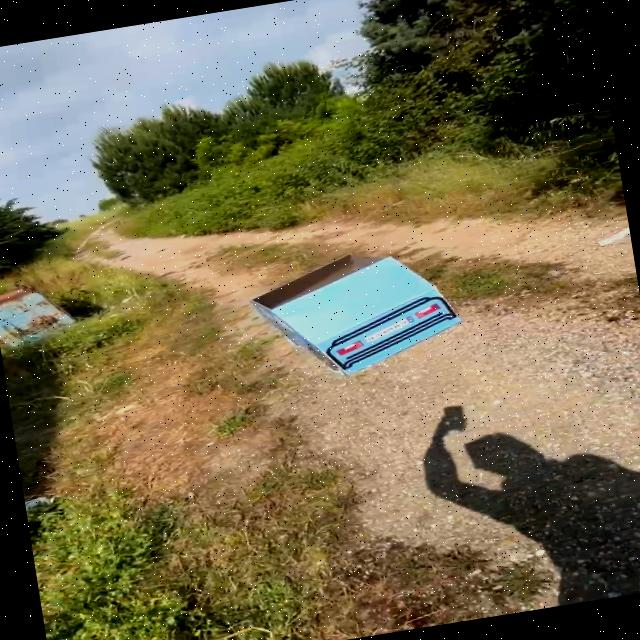blue_car: (229, 210, 493, 407)
